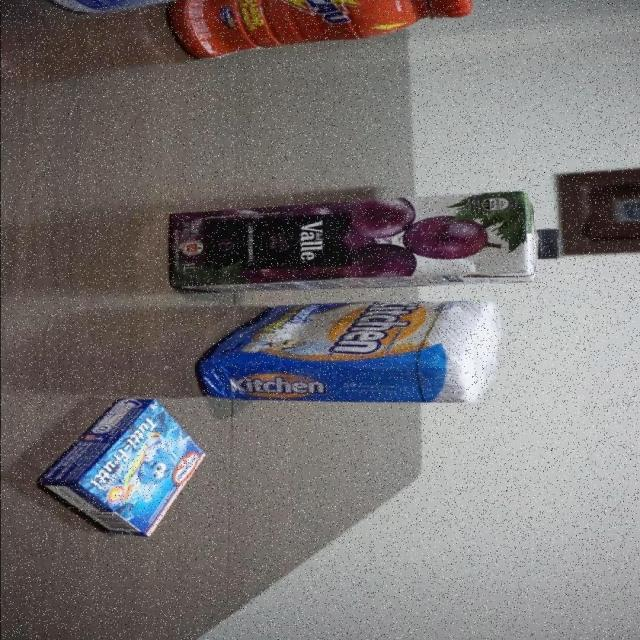AlcoholBottle: (30, 0, 186, 15)
ChocolateMilk: (163, 0, 474, 62)
Gelatine: (36, 398, 205, 538)
Napkin: (194, 300, 505, 403)
